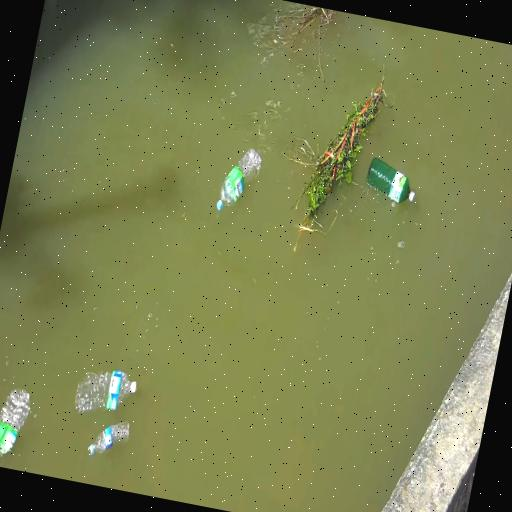plastic: (206, 144, 271, 226), (71, 364, 138, 425), (0, 380, 39, 471), (360, 160, 418, 208), (80, 416, 138, 460)
twig: (290, 87, 382, 252), (269, 0, 340, 53)
